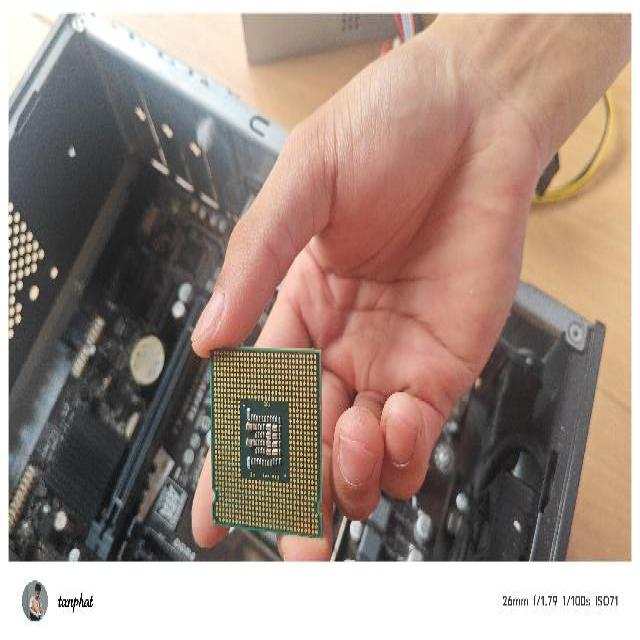CPU: (208, 346, 324, 540)
